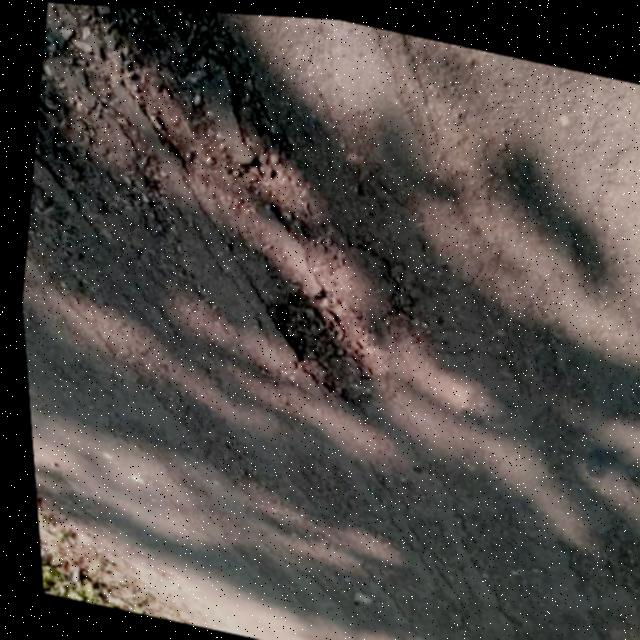Pothole: (249, 271, 399, 410)
